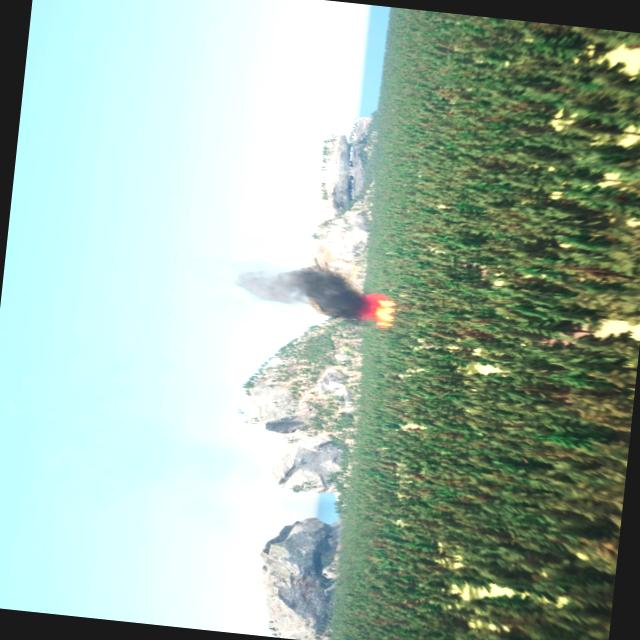fire: (362, 293, 394, 330)
smoke: (228, 256, 368, 320)
